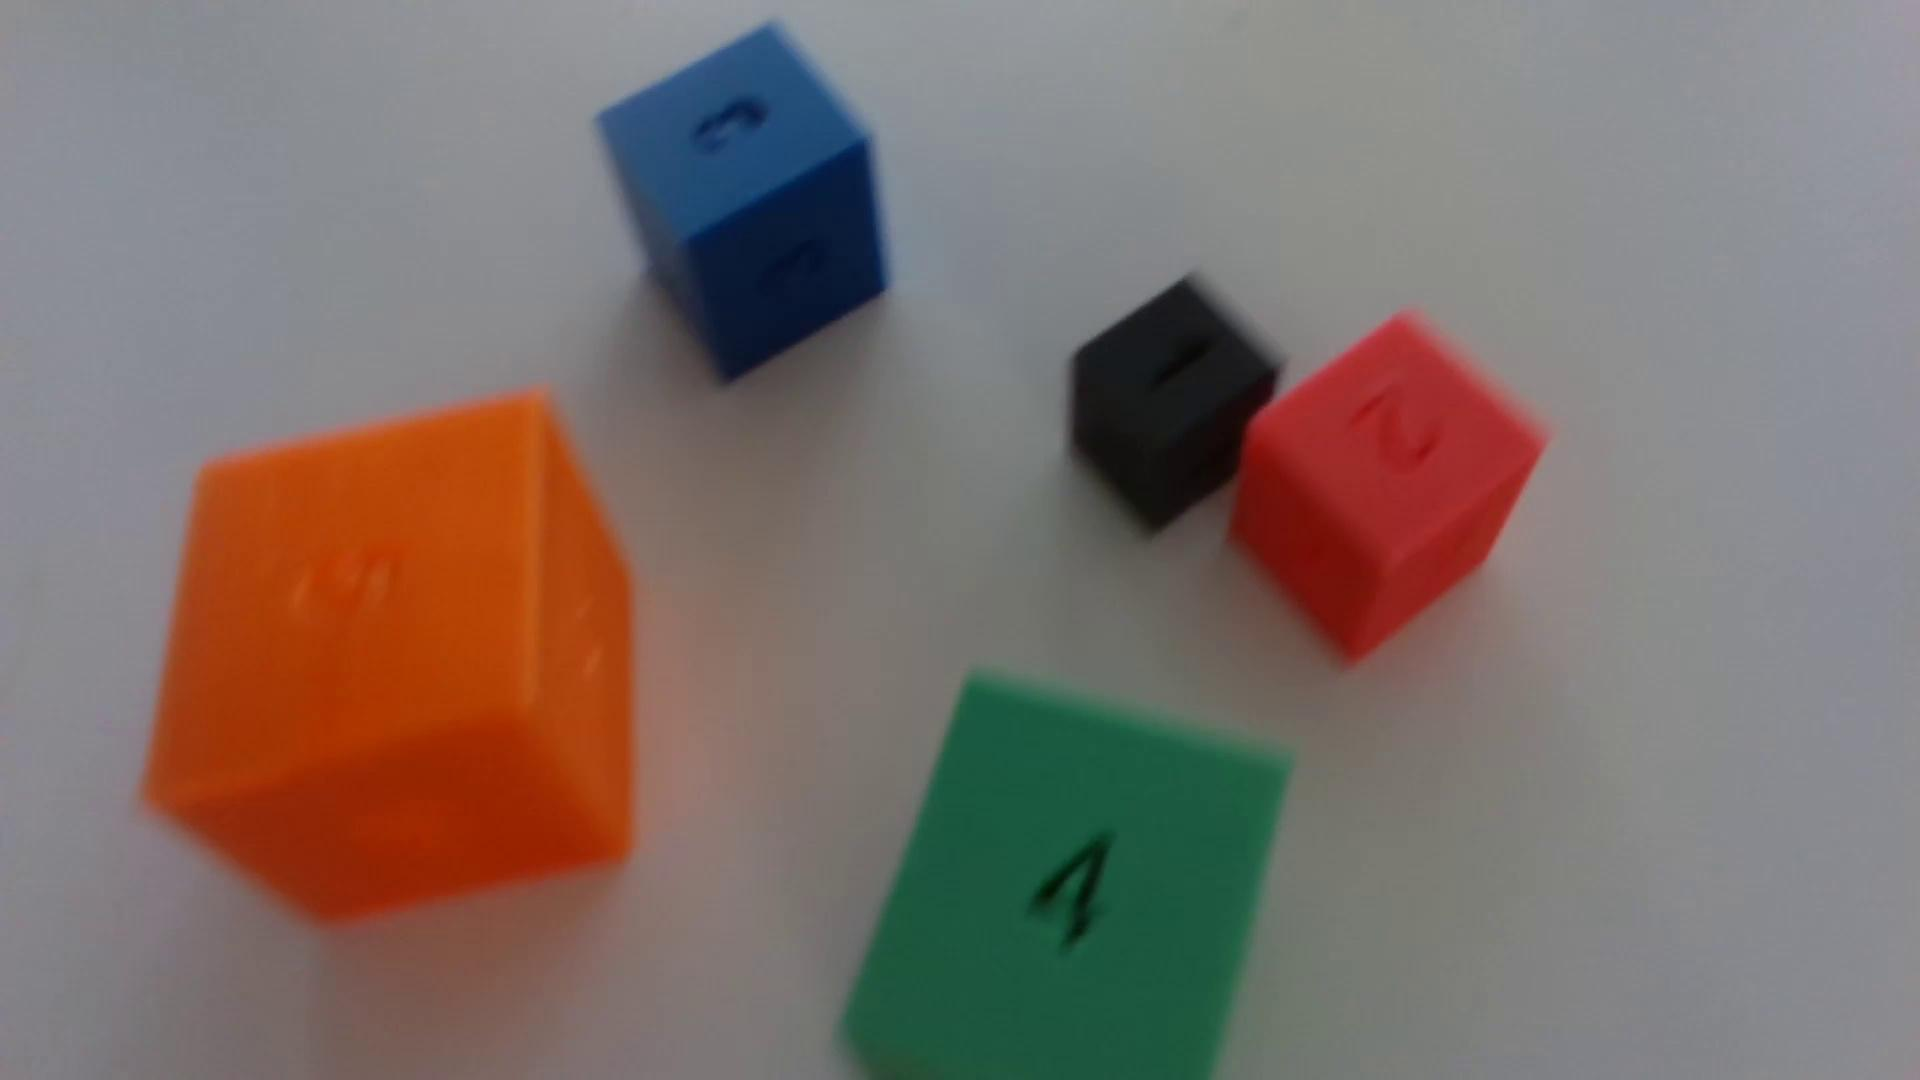black: (1068, 278, 1280, 534)
blue: (597, 26, 886, 381)
green: (844, 678, 1288, 1080)
orange: (145, 394, 634, 923)
red: (1230, 316, 1545, 662)
